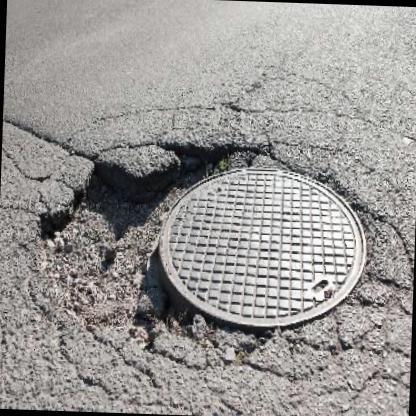pothole: (35, 134, 256, 336)
